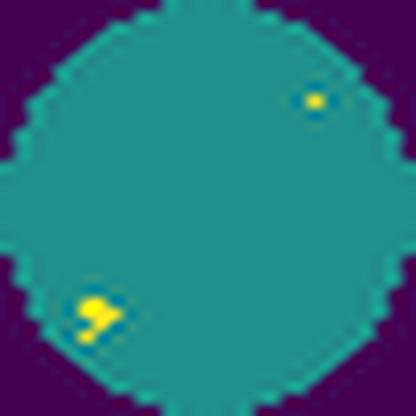Loc: (70, 284, 127, 351)
